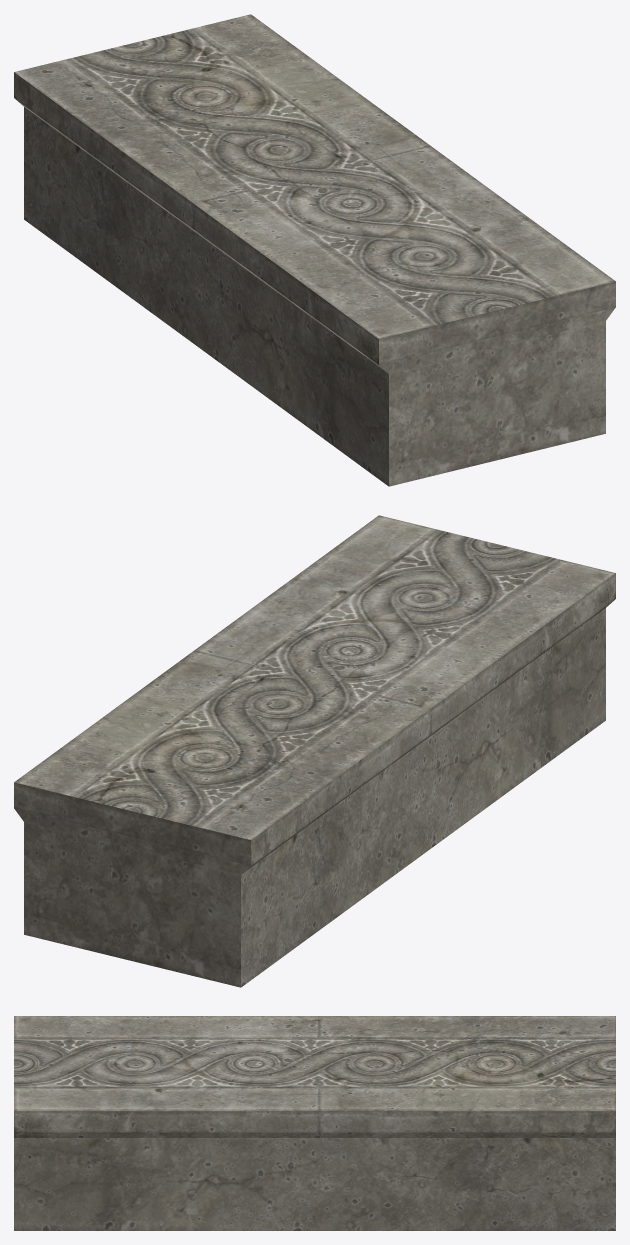
File: bg_lut_lucastle_castleborder01d_sm_phs.FBX
The picture shows the model from 3 angles, top to bottom: view 1: azimuth 30°, elevation 25°; view 2: azimuth 150°, elevation 25°; view 3: azimuth 270°, elevation 25°; orthographic projection. The views are drawn at different scales.
Parts seen in each view (by area): view 1: bg_lut_lucastle_castleborder01d_sm_phs; view 2: bg_lut_lucastle_castleborder01d_sm_phs; view 3: bg_lut_lucastle_castleborder01d_sm_phs.
Boxes of the visible parts, box(x1,y1,x2,y2) form: bg_lut_lucastle_castleborder01d_sm_phs: box(14, 14, 615, 486); bg_lut_lucastle_castleborder01d_sm_phs: box(14, 515, 615, 987); bg_lut_lucastle_castleborder01d_sm_phs: box(14, 1016, 615, 1230).
Size of the model in its own units: 96 by 58 by 256.
